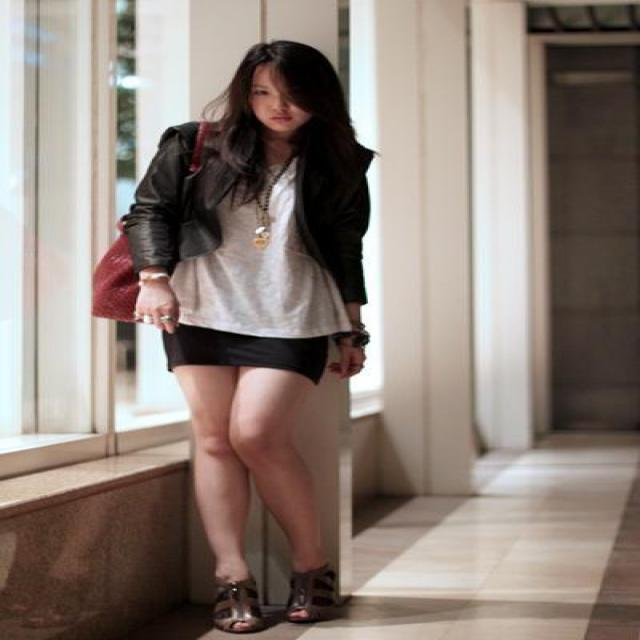bag: (91, 220, 157, 339)
jacket: (121, 116, 372, 310)
shirt: (173, 159, 360, 337)
shoe: (197, 565, 352, 639)
skirt: (163, 323, 325, 370)
